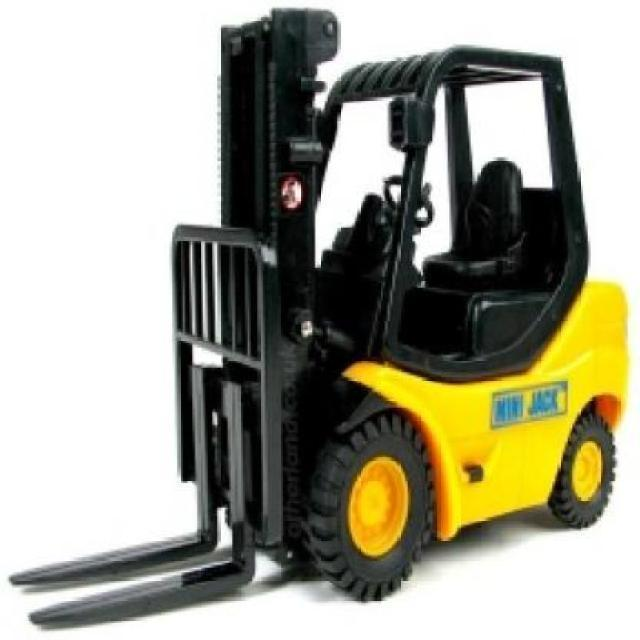forklift: (173, 3, 633, 603)
